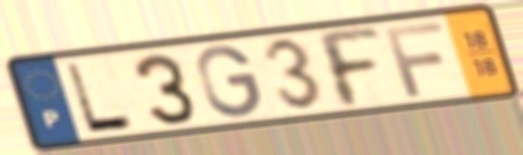3: (261, 35, 328, 114), (131, 50, 199, 127)
F: (309, 25, 386, 111), (381, 18, 447, 100)
G: (193, 43, 265, 121)
L: (61, 60, 139, 135)
